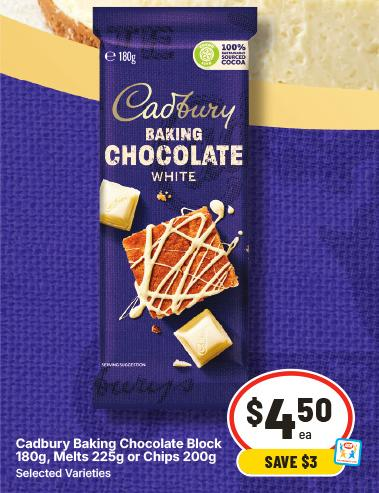description_block: (9, 431, 232, 469)
price_main: (233, 365, 350, 449)
product_image_block: (67, 8, 277, 420)
promo_text_block: (228, 445, 352, 477)
